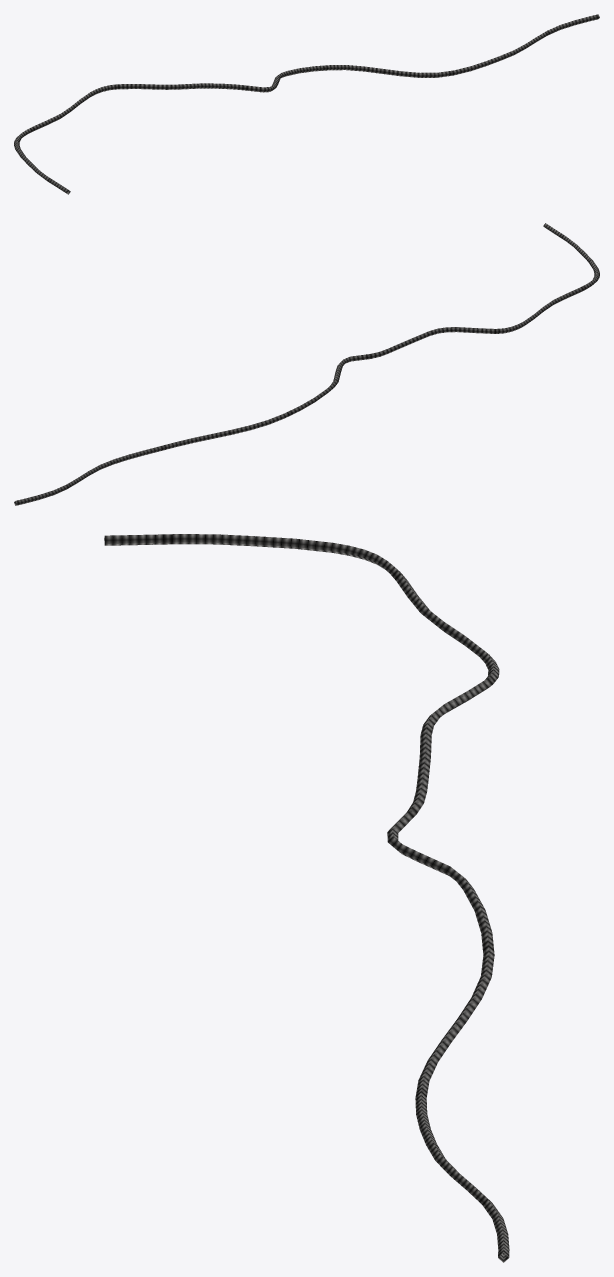
The model's file is Hose_J.fbx.
The picture shows the model from 3 angles, top to bottom: view 1: azimuth 30°, elevation 25°; view 2: azimuth 210°, elevation 25°; view 3: azimuth 270°, elevation 25°; orthographic projection. The views are drawn at different scales.
Parts seen in each view (by area): view 1: GameObject; view 2: GameObject; view 3: GameObject.
Boxes of the visible parts, box(x1,y1,x2,y2) form: GameObject: box(14, 14, 599, 194); GameObject: box(14, 223, 599, 505); GameObject: box(104, 534, 509, 1262).
Size of the model in its own units: 38.99 by 3.39 by 10.78.
